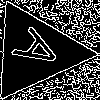A: (10, 26, 73, 79)
